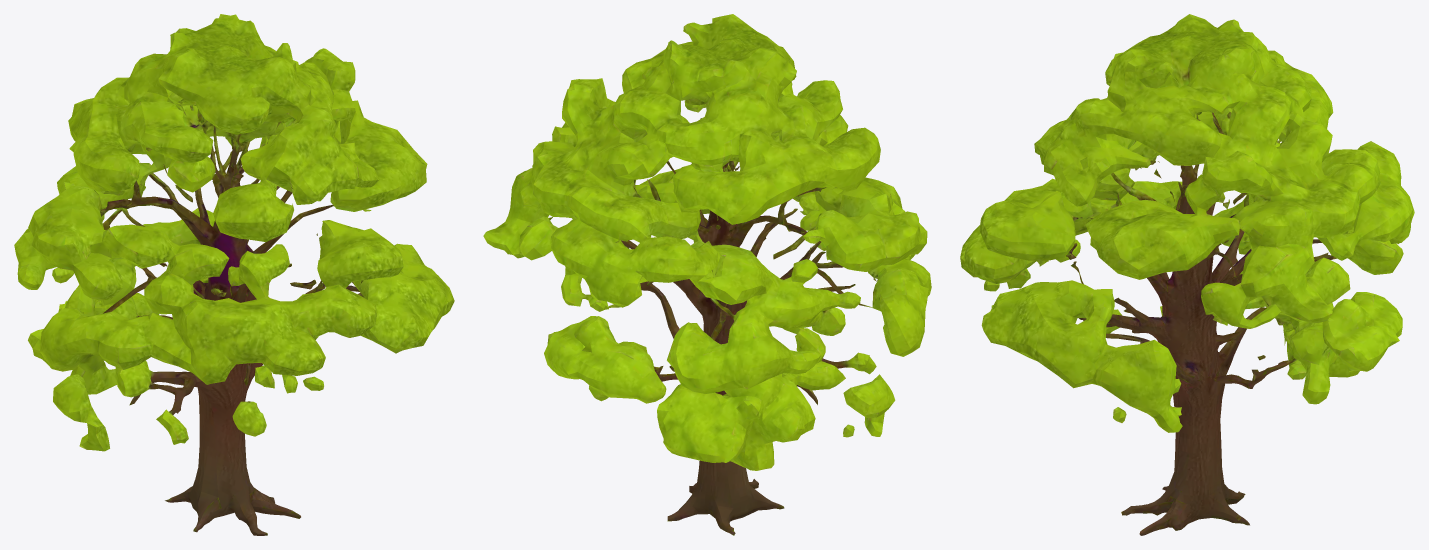
File: meshy_high_tree.glb
3 renders of one model, left to right at view 1: azimuth 30°, elevation 25°; view 2: azimuth 150°, elevation 25°; view 3: azimuth 270°, elevation 25°, orthographic.
Parts seen in each view (by area): view 1: Mesh0; view 2: Mesh0; view 3: Mesh0.
Boxes of the visible parts, bbox=[...] form: Mesh0: bbox=[14, 14, 454, 535]; Mesh0: bbox=[483, 14, 931, 535]; Mesh0: bbox=[960, 14, 1414, 535].
Bounding box in the file's own units: 1.54 × 1.89 × 1.62.
1 material, 1 textured.
